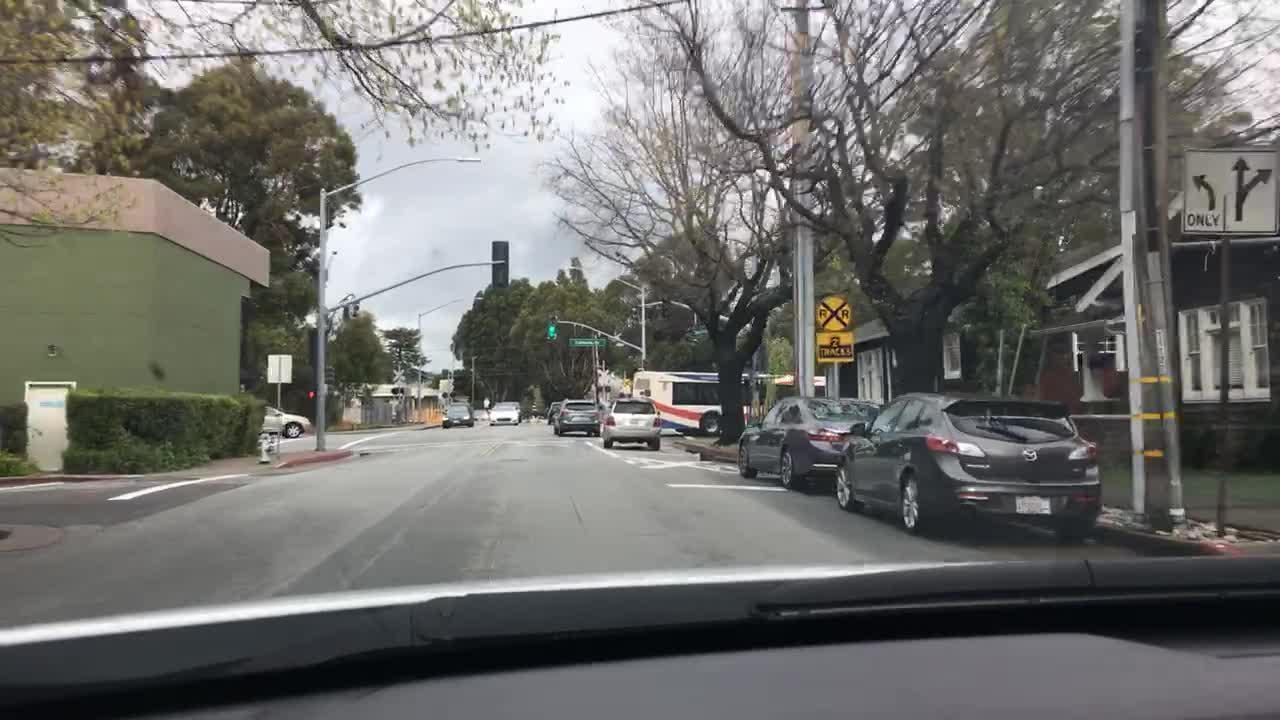Mazda: (1021, 447, 1038, 465)
